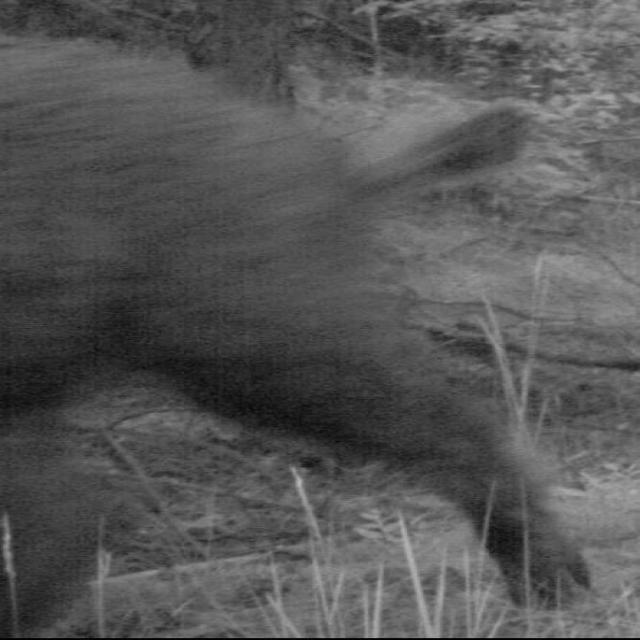pig: (0, 38, 585, 638)
